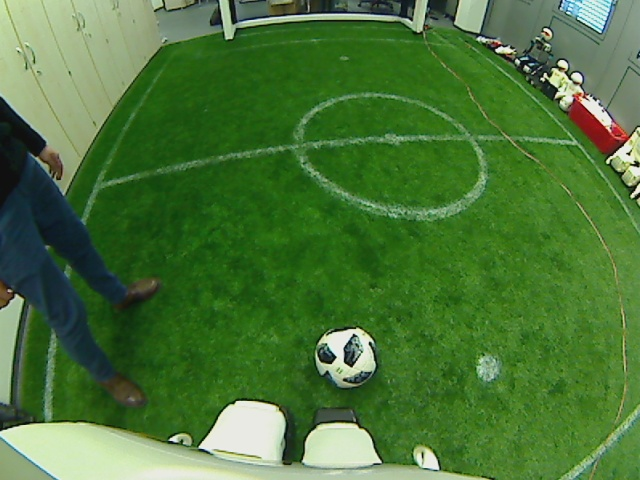ball: (311, 324, 378, 390)
